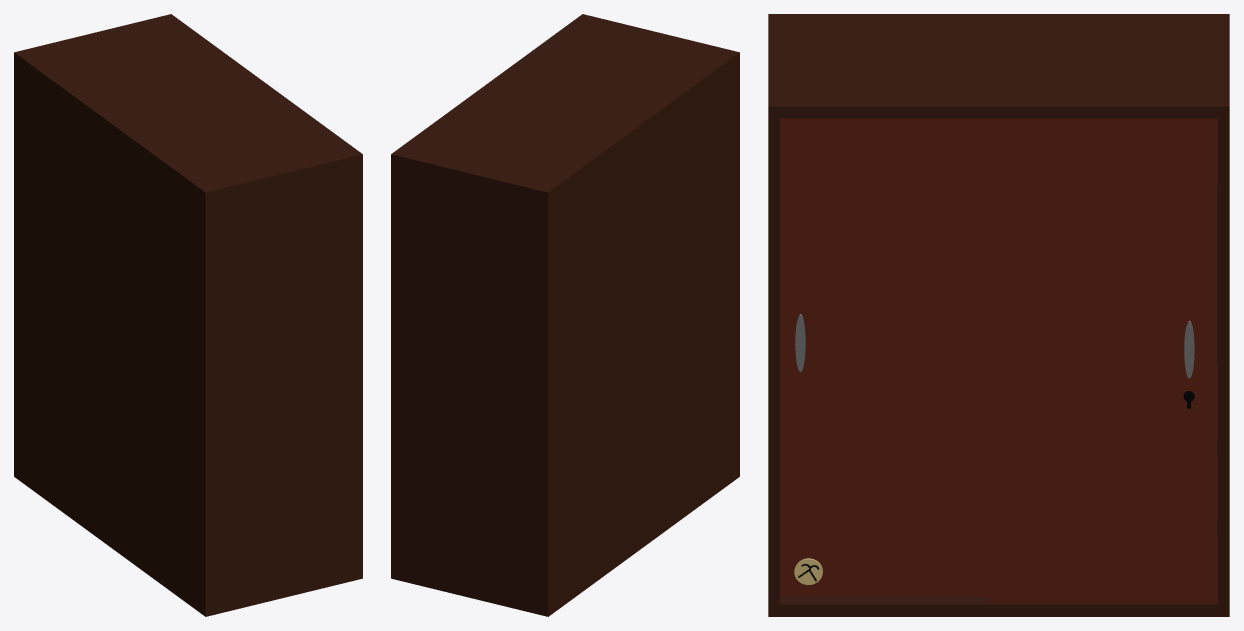
The model's file is cupboard.fbx.
3 views of the same model, side by side, from view 1: azimuth 30°, elevation 25°; view 2: azimuth 150°, elevation 25°; view 3: azimuth 270°, elevation 25° (orthographic). The views are drawn at different scales.
Parts seen in each view (by area): view 1: Cube; view 2: Cube; view 3: Cube.006, Cube.005, Cube, Cylinder.002.
Boxes of the visible parts, bbox=[...] form: Cube: bbox=[14, 14, 362, 616]; Cube: bbox=[391, 14, 739, 616]; Cube.006: bbox=[990, 118, 1217, 603]; Cube.005: bbox=[779, 118, 989, 596]; Cube: bbox=[768, 14, 1229, 616]; Cylinder.002: bbox=[794, 558, 822, 584].
Bounding box in the file's own units: 383 × 979 × 801.
